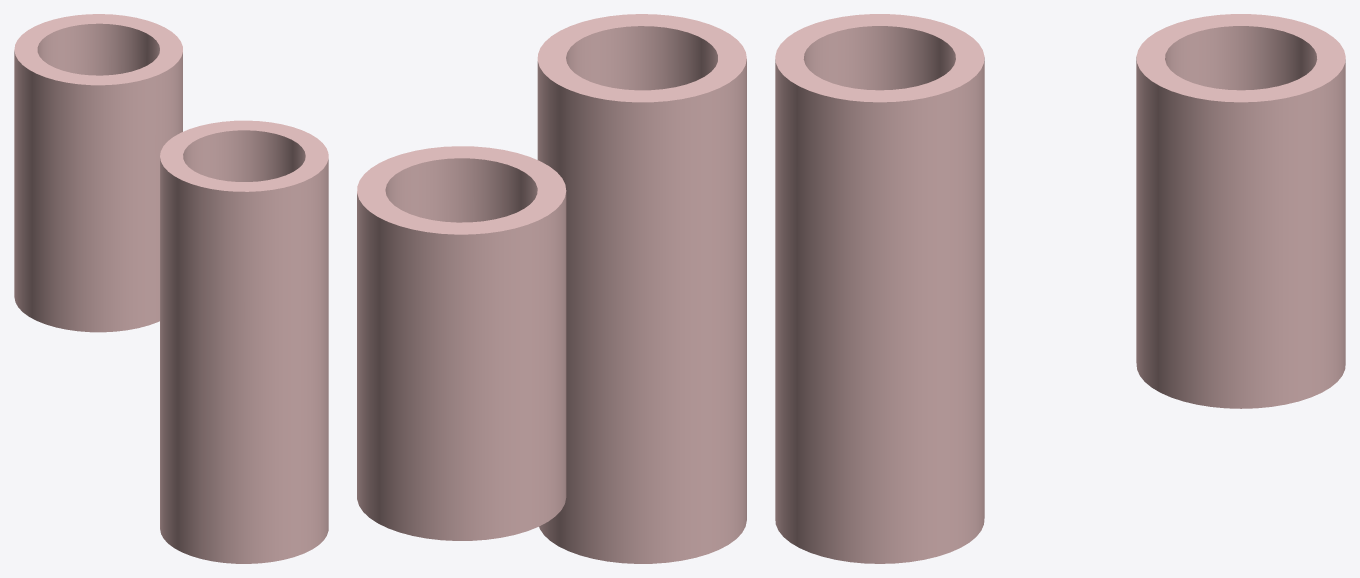
The picture shows the model from 3 angles, left to right: view 1: azimuth 30°, elevation 25°; view 2: azimuth 150°, elevation 25°; view 3: azimuth 270°, elevation 25°; orthographic projection. The views are drawn at different scales.
Visible parts, largest first — view 1: wall, wall.001; view 2: wall, wall.001; view 3: wall, wall.001.
Boxes of the visible parts, x1=… form: wall: x1=160, y1=120, x2=328, y2=563; wall.001: x1=14, y1=14, x2=182, y2=332; wall: x1=537, y1=14, x2=746, y2=563; wall.001: x1=357, y1=146, x2=566, y2=540; wall: x1=775, y1=14, x2=984, y2=563; wall.001: x1=1136, y1=14, x2=1345, y2=408.
Size of the model in its own units: 0.0367 by 0.0893 by 0.1.
